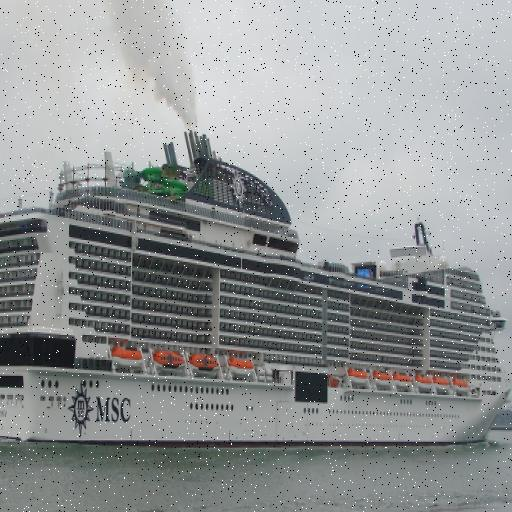cruises: (1, 120, 512, 461)
